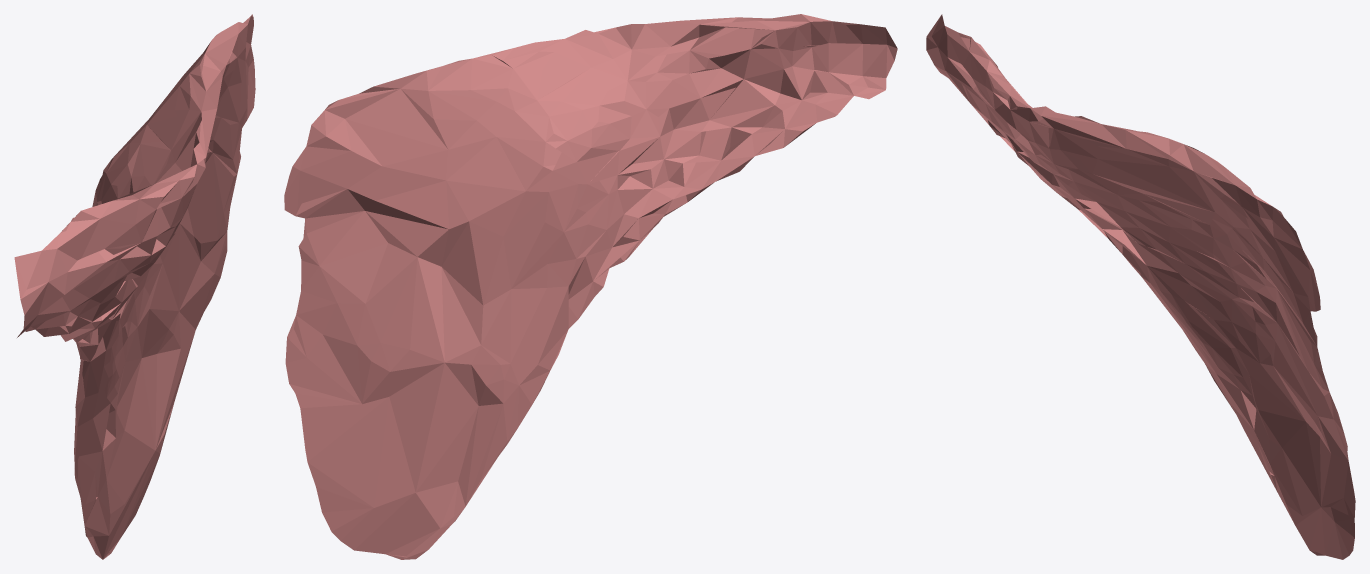
File: Subscapular_muscle.r.glb
The picture shows the model from 3 angles, left to right: view 1: azimuth 30°, elevation 25°; view 2: azimuth 150°, elevation 25°; view 3: azimuth 270°, elevation 25°; orthographic projection. The views are drawn at different scales.
Visible parts, largest first — view 1: Subscapular_muscle.r; view 2: Subscapular_muscle.r; view 3: Subscapular_muscle.r.
Boxes of the visible parts, bbox=[...] form: Subscapular_muscle.r: bbox=[14, 14, 255, 559]; Subscapular_muscle.r: bbox=[284, 14, 897, 559]; Subscapular_muscle.r: bbox=[926, 14, 1355, 559].
Size of the model in its own units: 0.1029 by 0.1132 by 0.1039.
